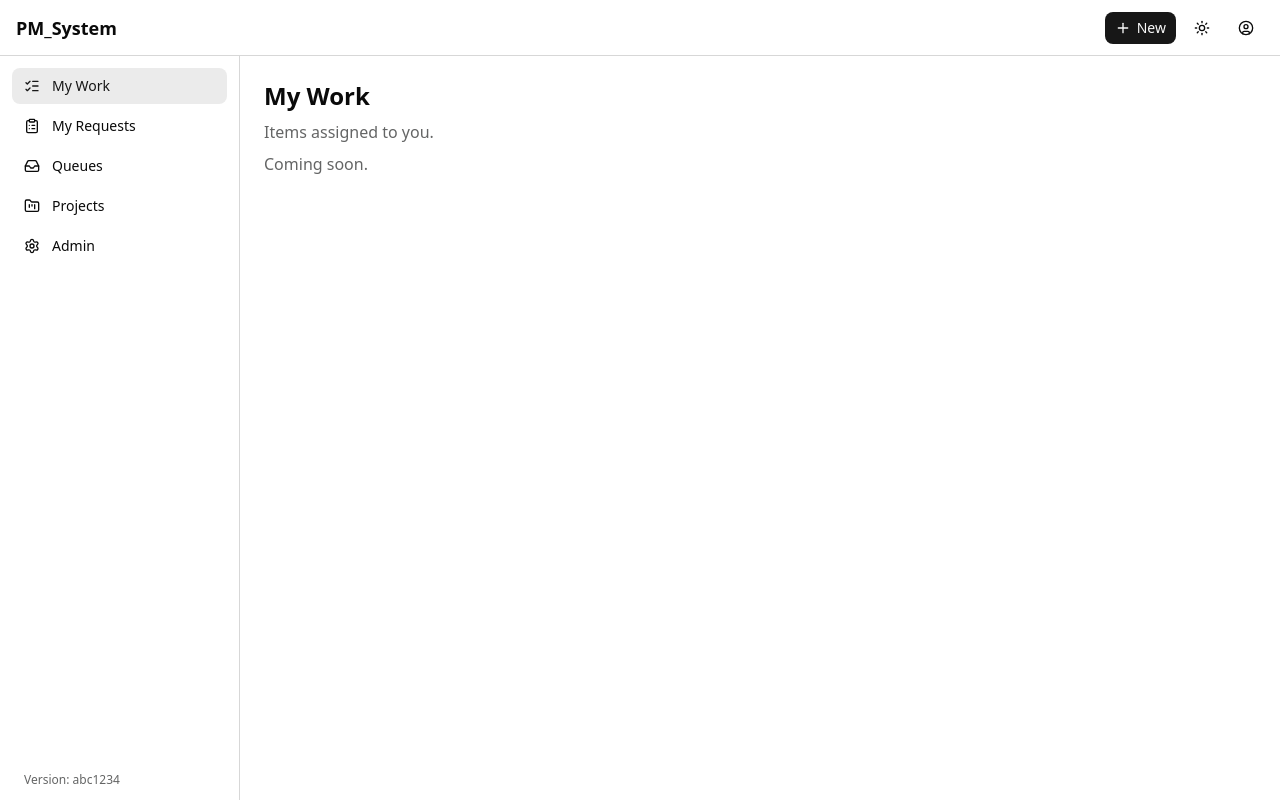
Test case: app shell › has a My Requests page in the navigation
Step 1. Click the link "My Requests" → x=80, y=126, box 24,116 -> 136,135
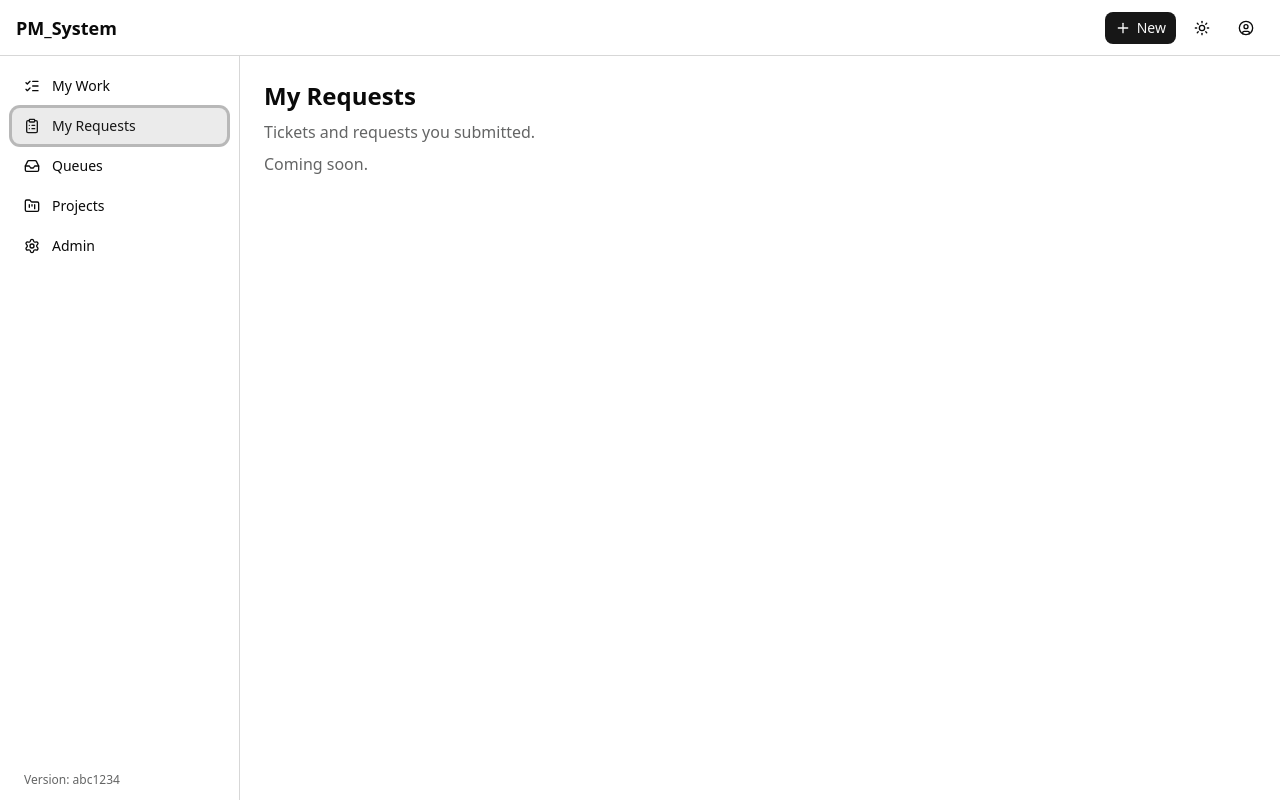
Now the heading "My Requests" is shown, box 264,79 -> 416,112
